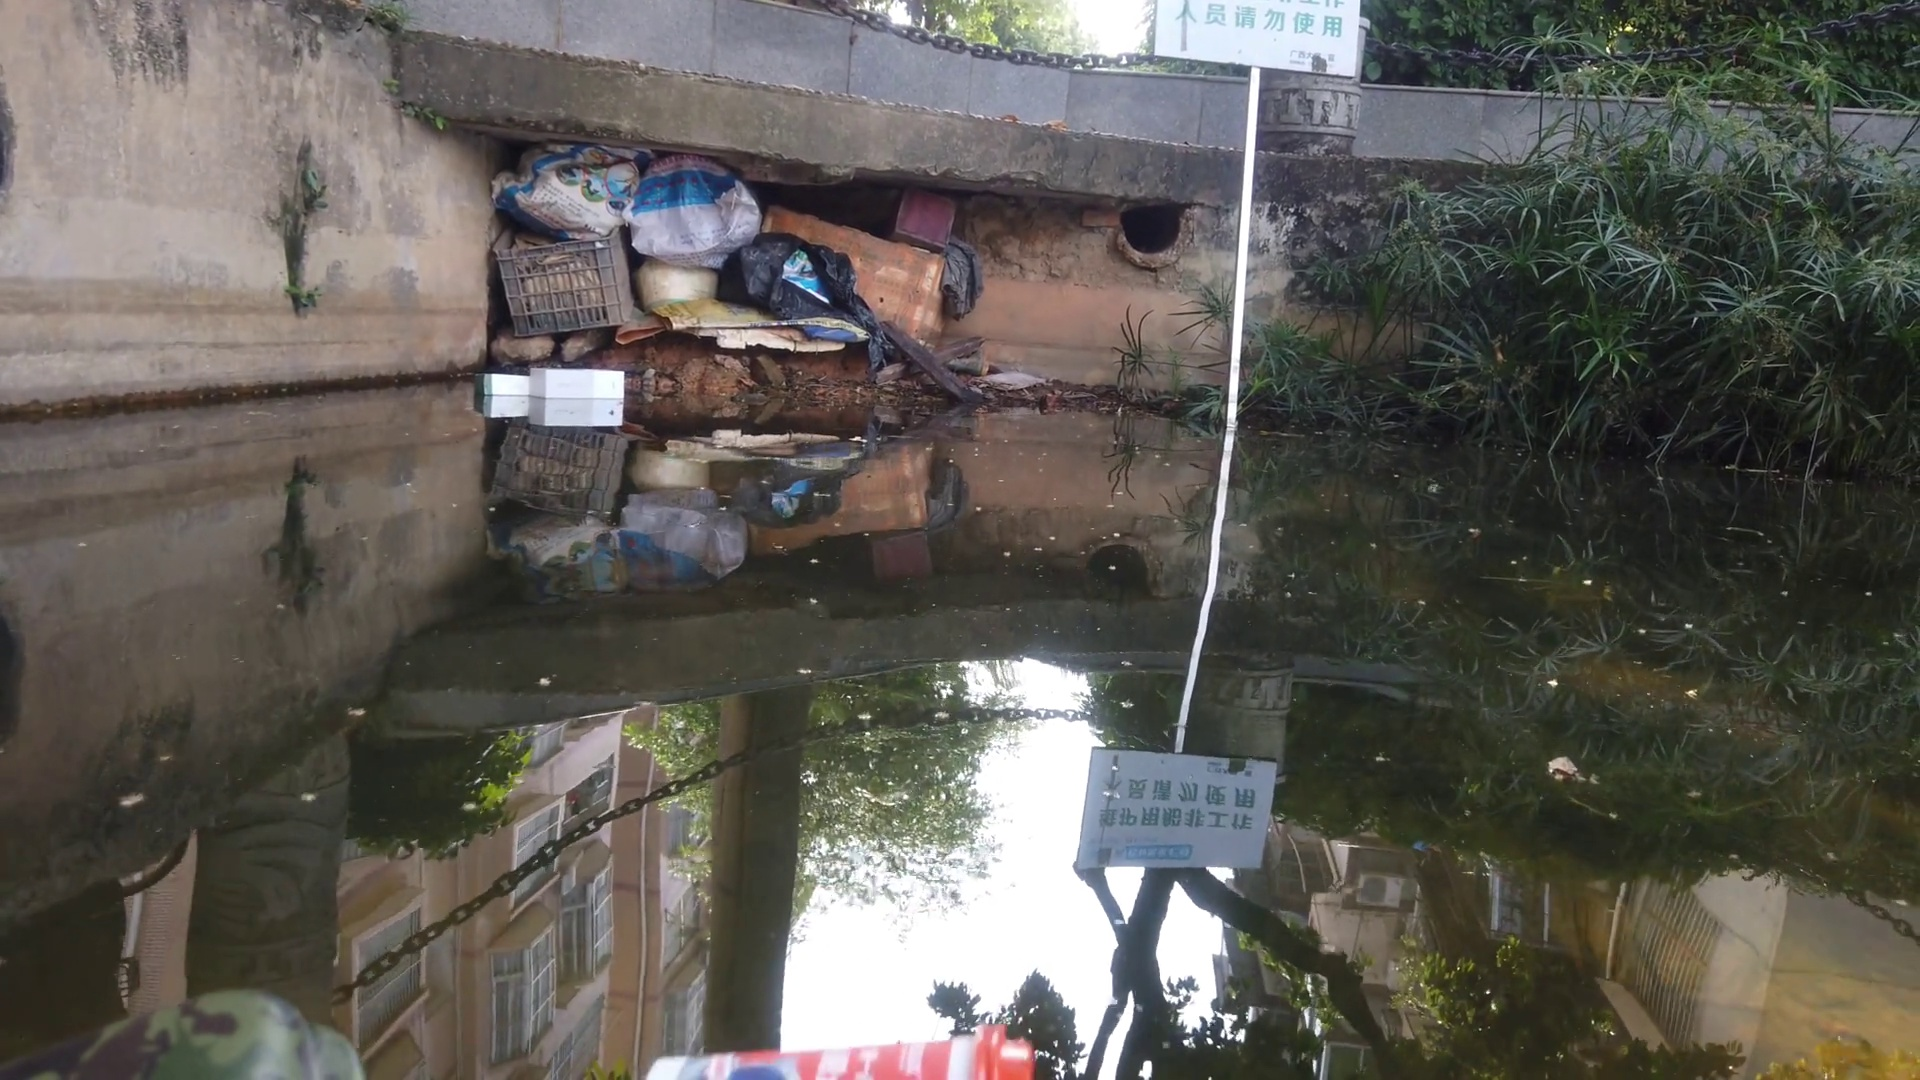bottle: (641, 1025, 1036, 1080)
carton: (527, 365, 622, 401), (483, 371, 535, 400)
